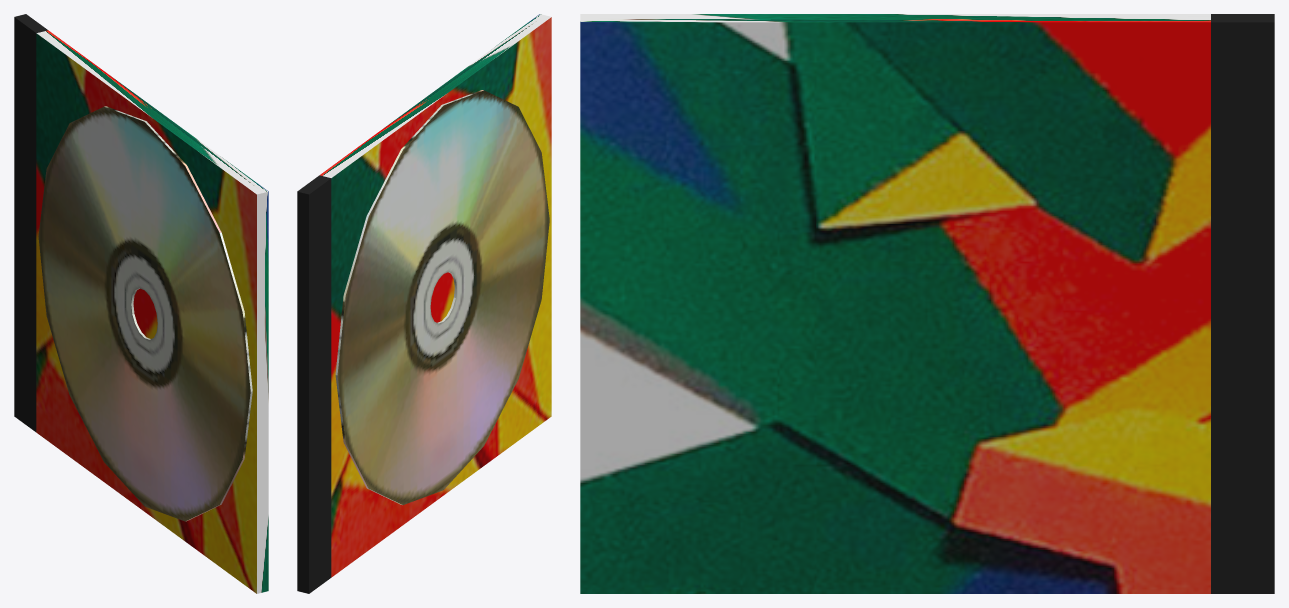
The picture shows the model from 3 angles, left to right: view 1: azimuth 30°, elevation 25°; view 2: azimuth 150°, elevation 25°; view 3: azimuth 270°, elevation 25°; orthographic projection. The views are drawn at different scales.
Parts seen in each view (by area): view 1: ItmCd.003, Cube.005; view 2: ItmCd.003, Cube.005; view 3: Cube.005.
Boxes of the visible parts, left/top/right/bottom form: ItmCd.003: left=38, top=106, right=252, bottom=521; Cube.005: left=14, top=14, right=268, bottom=593; ItmCd.003: left=335, top=90, right=549, bottom=504; Cube.005: left=297, top=14, right=551, bottom=593; Cube.005: left=580, top=14, right=1274, bottom=593.
Bounding box in the file's own units: 0.5631 × 15.22 × 16.76.
3 materials, 2 textured.
